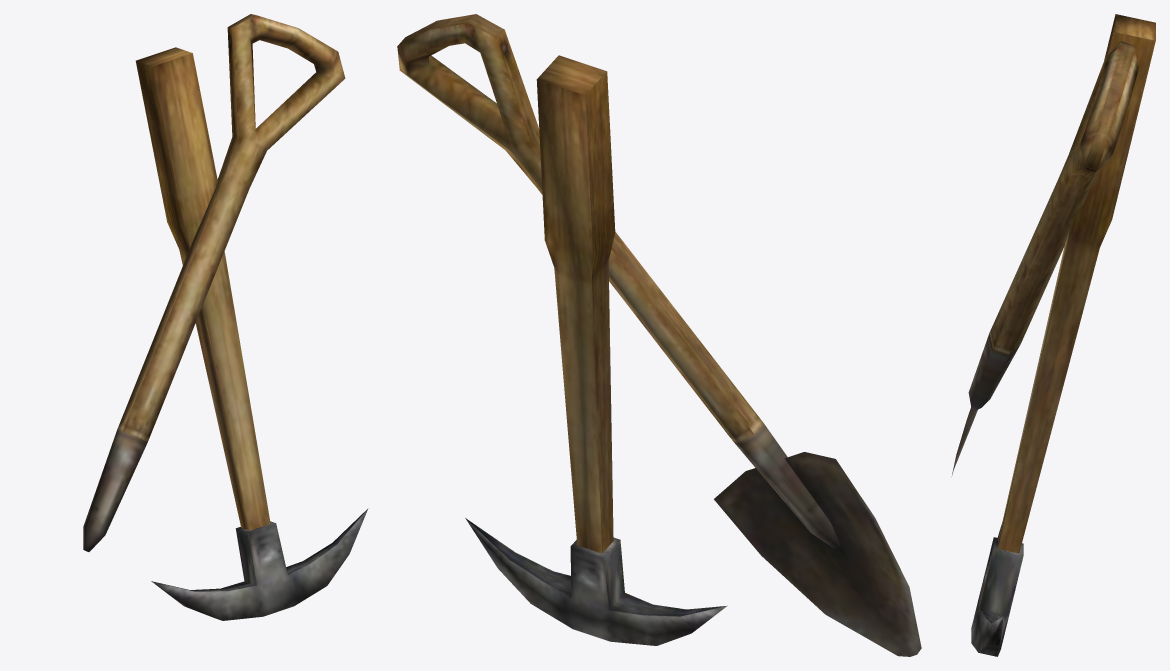
File: cj_farmingtool1.glb
3 views of the same model, side by side, from view 1: azimuth 30°, elevation 25°; view 2: azimuth 150°, elevation 25°; view 3: azimuth 270°, elevation 25° (orthographic). The views are drawn at different scales.
Visible parts, largest first — view 1: CJ_FarmingTool; view 2: CJ_FarmingTool; view 3: CJ_FarmingTool.
Boxes of the visible parts, x1=… form: CJ_FarmingTool: x1=83, y1=14, x2=368, y2=620; CJ_FarmingTool: x1=397, y1=14, x2=921, y2=656; CJ_FarmingTool: x1=951, y1=14, x2=1155, y2=656.
Size of the model in its own units: 0.5667 by 0.7881 by 0.2362.
1 material, 1 textured.
